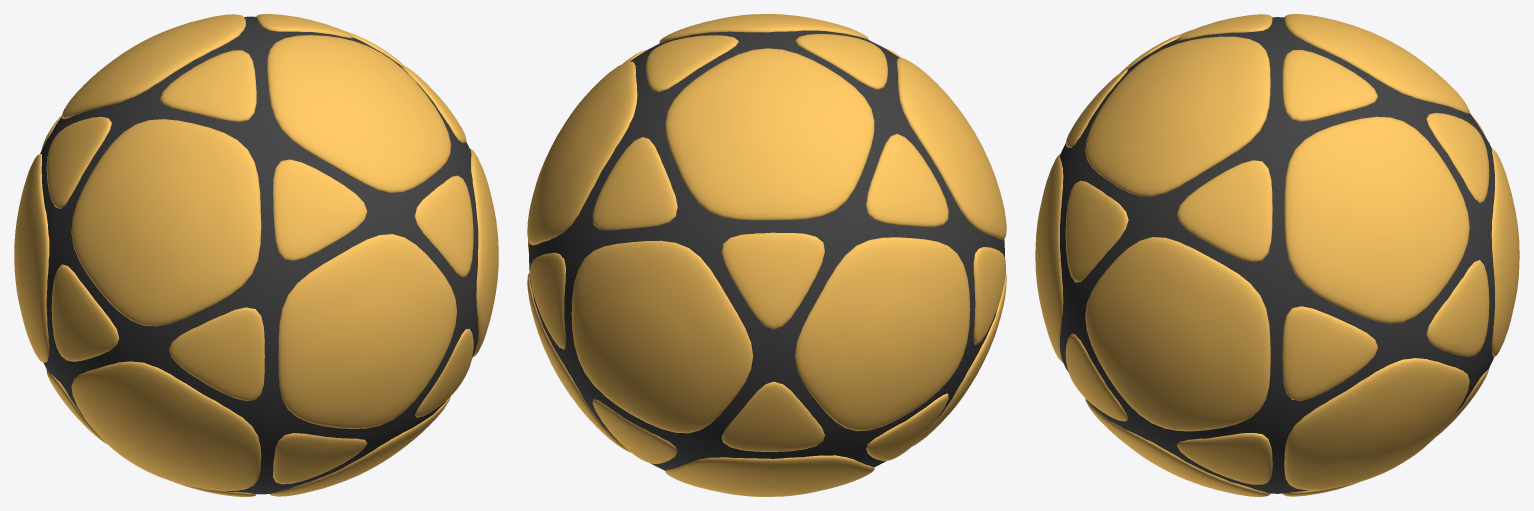
Rendered from ball.fbx.
3 views of the same model, side by side, from view 1: azimuth 30°, elevation 25°; view 2: azimuth 150°, elevation 25°; view 3: azimuth 270°, elevation 25° (orthographic).
Parts seen in each view (by area): view 1: Sphere; view 2: Sphere; view 3: Sphere.
Part boxes in pixels (x1=…): Sphere: x1=14, y1=14, x2=498, y2=496; Sphere: x1=527, y1=14, x2=1006, y2=496; Sphere: x1=1035, y1=14, x2=1519, y2=496.
Size of the model in its own units: 200 by 199 by 200.
